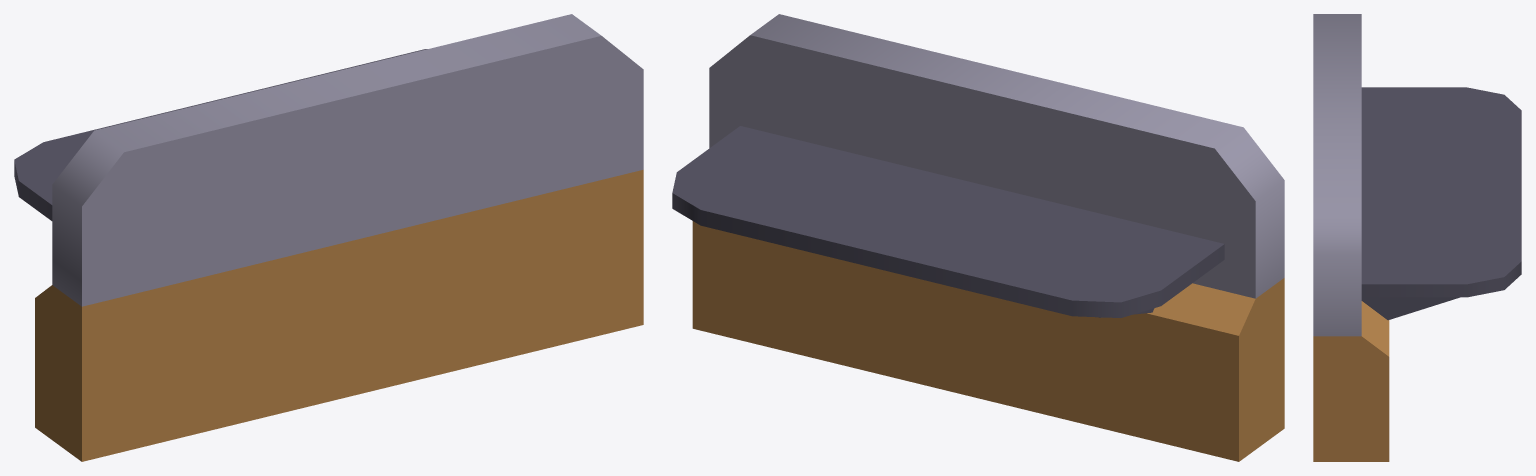
File: Shelf1.fbx
3 views of the same model, side by side, from view 1: azimuth 30°, elevation 25°; view 2: azimuth 150°, elevation 25°; view 3: azimuth 270°, elevation 25° (orthographic). The views are drawn at different scales.
Visible parts, largest first — view 1: Shelf1; view 2: Shelf1; view 3: Shelf1.
Part boxes in pixels (x1,y1,x2,y2): Shelf1: (14,14,643,461); Shelf1: (672,14,1284,461); Shelf1: (1313,14,1521,461).
Bounding box in the file's own units: 200 × 102 × 79.25.
